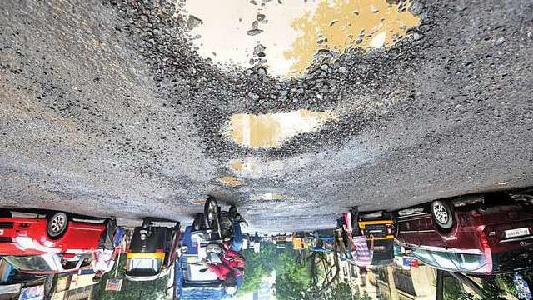pothole: (125, 2, 444, 99), (199, 111, 350, 159), (223, 159, 262, 179), (212, 173, 246, 192), (245, 189, 288, 204)
